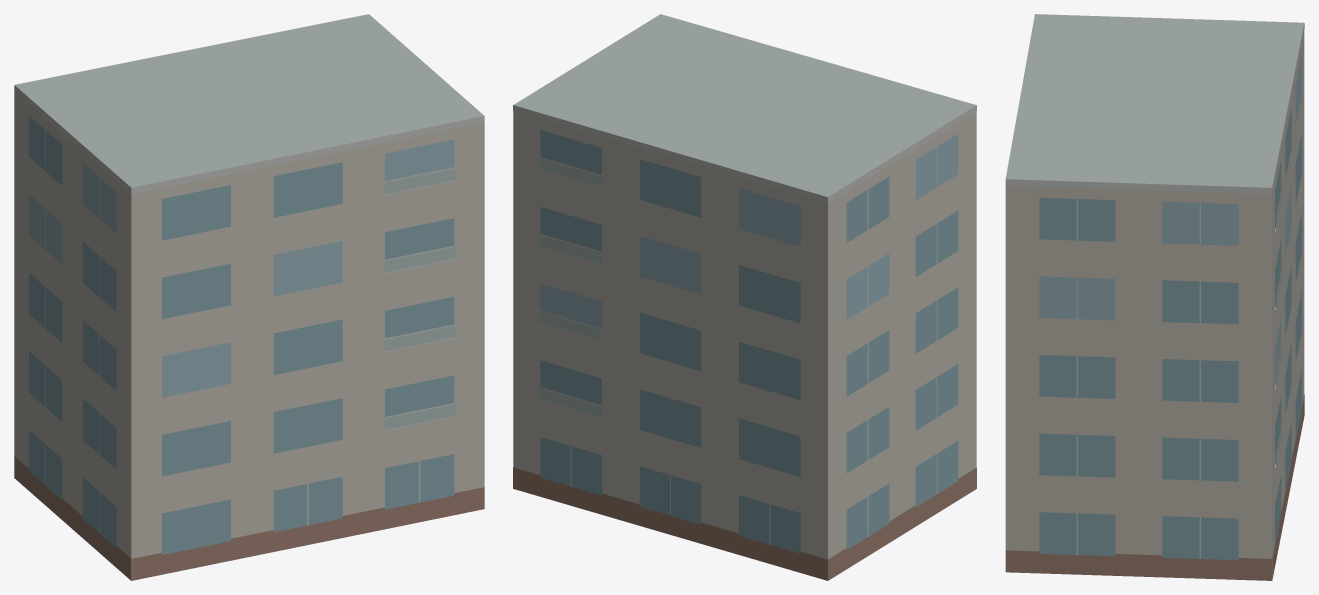
The model's file is survey-upis-32923995.glb.
3 views of the same model, side by side, from view 1: azimuth 30°, elevation 25°; view 2: azimuth 150°, elevation 25°; view 3: azimuth 270°, elevation 25° (orthographic). The views are drawn at different scales.
Parts seen in each view (by area): view 1: survey-upis-32923995.tmp; view 2: survey-upis-32923995.tmp; view 3: survey-upis-32923995.tmp.
Part boxes in pixels (bbox=[...]): survey-upis-32923995.tmp: bbox=[14, 14, 484, 580]; survey-upis-32923995.tmp: bbox=[513, 14, 976, 580]; survey-upis-32923995.tmp: bbox=[1005, 14, 1304, 580].
Bounding box in the file's own units: 14.09 × 14.85 × 10.24.
